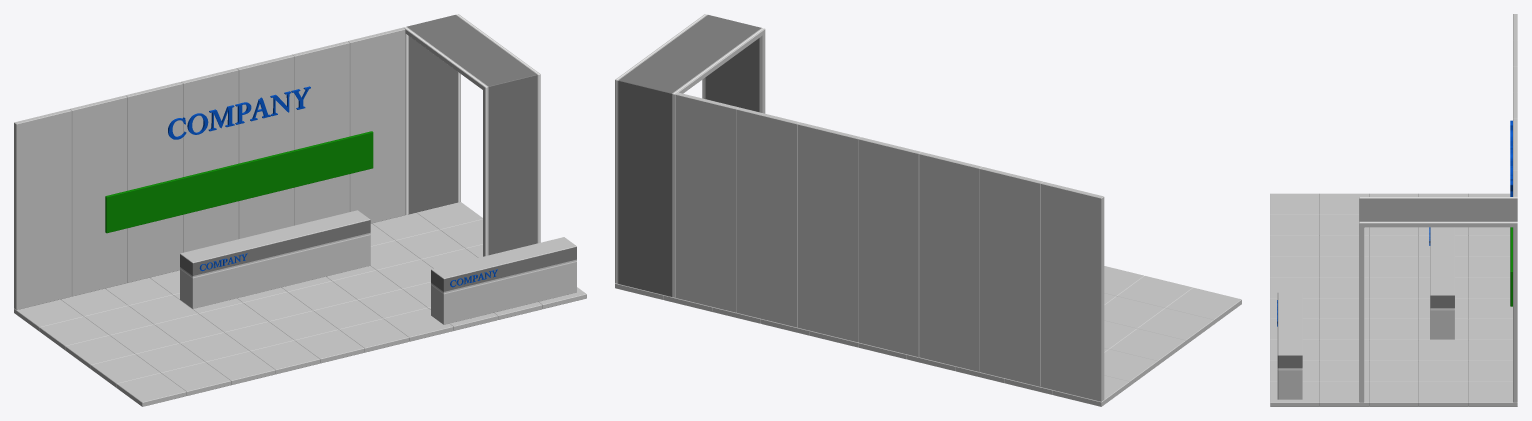
The model's file is stand_3.fbx.
The picture shows the model from 3 angles, left to right: view 1: azimuth 30°, elevation 25°; view 2: azimuth 150°, elevation 25°; view 3: azimuth 270°, elevation 25°; orthographic projection. The views are drawn at different scales.
Visible parts, largest first — view 1: stand_3, logo_3; view 2: stand_3; view 3: stand_3.
Part boxes in pixels (x1,y1,x2,y2): stand_3: (14,14,586,406); logo_3: (168,86,310,139); stand_3: (615,14,1241,406); stand_3: (1270,14,1517,406).
Size of the model in its own units: 10 by 4.1 by 5.
